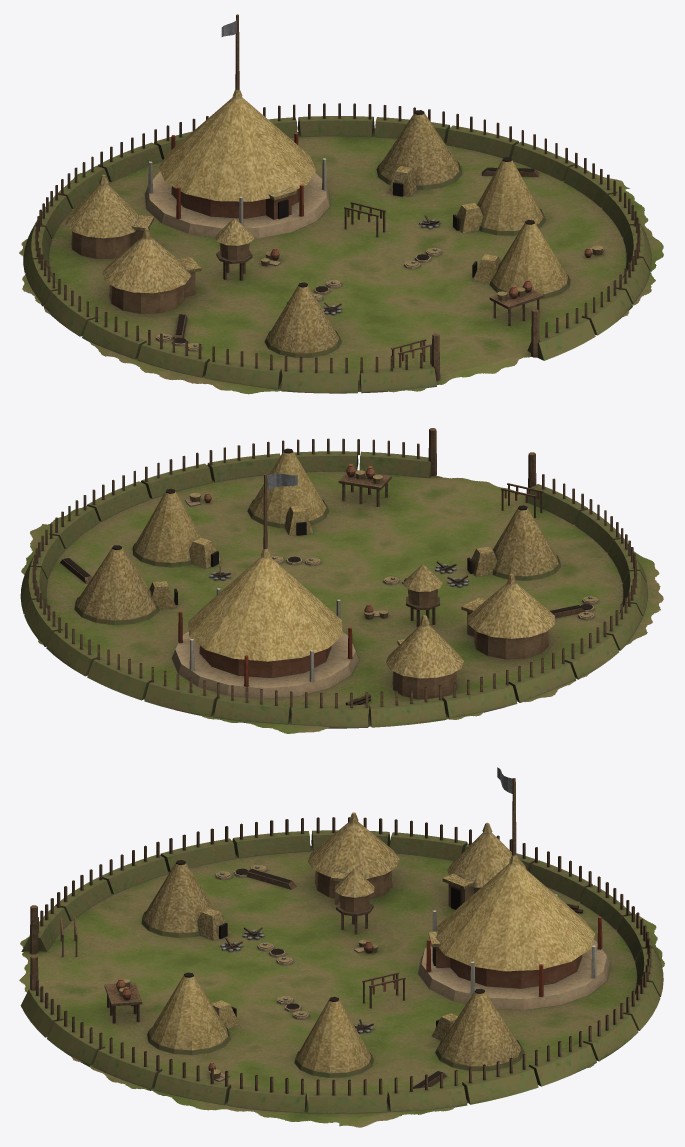
File: stone-town-small-b-korea.glb
3 views of the same model, one above another, from view 1: azimuth 30°, elevation 25°; view 2: azimuth 150°, elevation 25°; view 3: azimuth 270°, elevation 25° (orthographic). The views are drawn at different scales.
Parts seen in each view (by area): view 1: LOD0; view 2: LOD0; view 3: LOD0.
Part boxes in pixels (x1,y1,x2,y2): LOD0: (19, 14, 663, 394); LOD0: (20, 428, 663, 733); LOD0: (19, 767, 664, 1127).
Size of what is drawn, in the model's own units: 4 by 1.25 by 3.81.
Materials: 3 (3 with a texture image).
